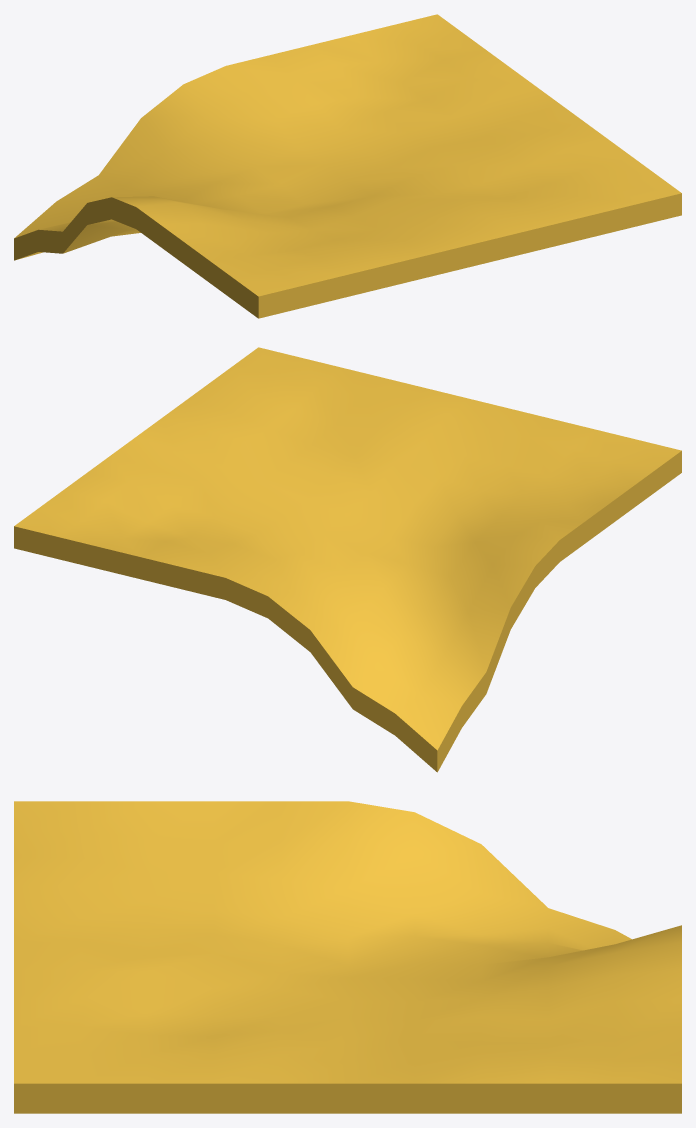
The model's file is Flach - Unten - Ecke Invertiert b - b.fbx.
3 views of the same model, one above another, from view 1: azimuth 30°, elevation 25°; view 2: azimuth 150°, elevation 25°; view 3: azimuth 270°, elevation 25° (orthographic). The views are drawn at different scales.
Parts seen in each view (by area): view 1: Flach - Unten - Ecke Invertiert b - b; view 2: Flach - Unten - Ecke Invertiert b - b; view 3: Flach - Unten - Ecke Invertiert b - b.
Part boxes in pixels (<box>): Flach - Unten - Ecke Invertiert b - b: <box>14,14,681,318</box>; Flach - Unten - Ecke Invertiert b - b: <box>14,347,681,772</box>; Flach - Unten - Ecke Invertiert b - b: <box>14,801,681,1113</box>.
Bounding box in the file's own units: 394 × 127 × 394.
